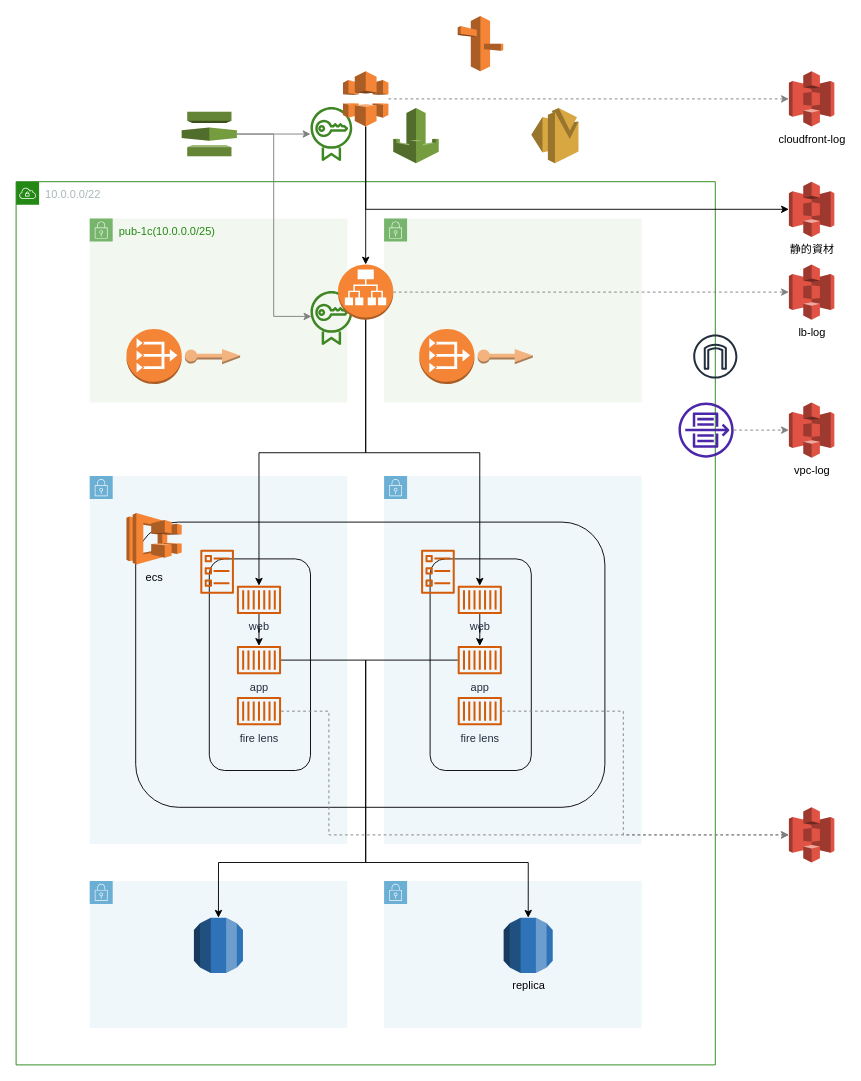
This 861x1081 diagram has some shape labels left out. Each missing label, with the box of its shape:
db-1c(10.0.2.0/25): (89, 880, 347, 1028)
db-1d(10.0.2.128/25): (383, 880, 642, 1028)
pri-1c(10.0.1.0/25): (89, 475, 347, 844)
pri-1d(10.0.1.128/25): (383, 475, 642, 844)
primary: (193, 917, 243, 973)
pub-1d(10.0.0.128/25): (383, 218, 642, 402)
web-log app-log: (788, 806, 834, 862)
